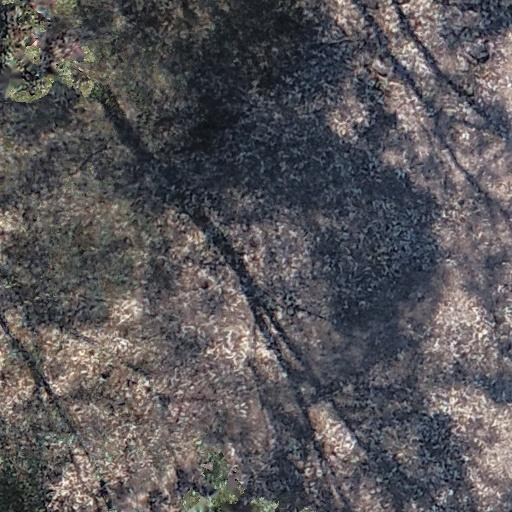stone: (464, 40, 491, 63), (372, 60, 392, 77)
